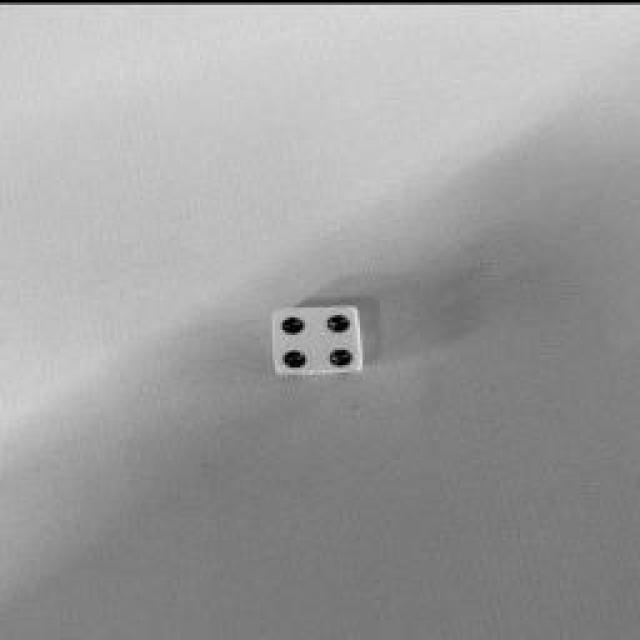dice_4: (274, 304, 361, 368)
